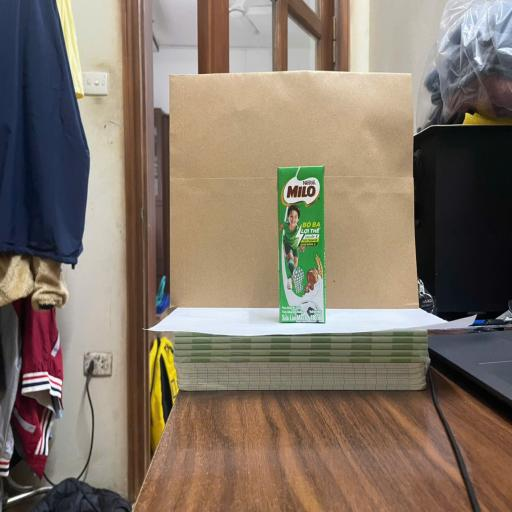milo: (277, 165, 324, 323)
